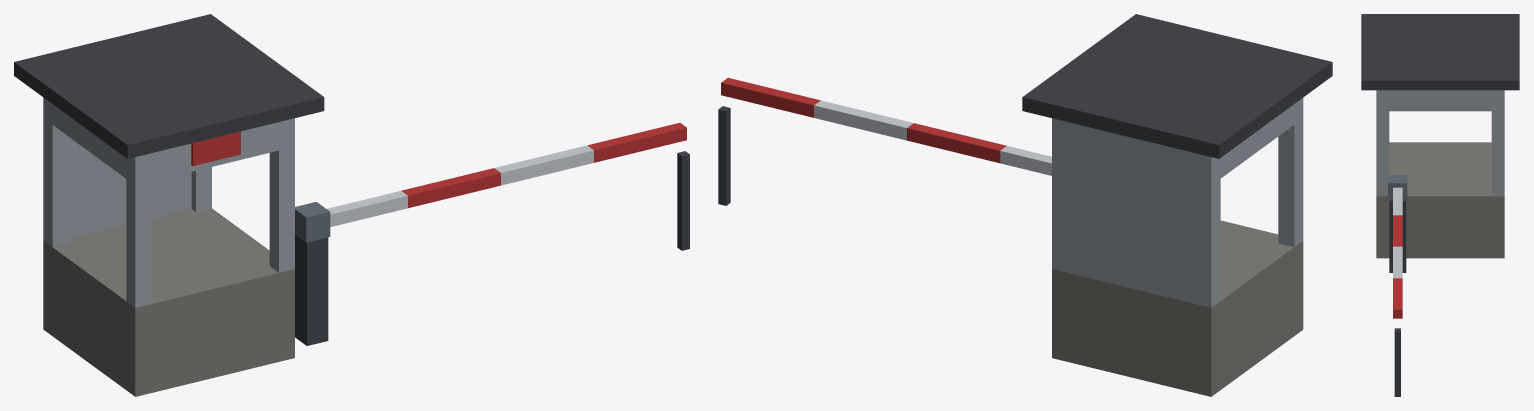
Rendered from env_checkpoint.fbx.
3 renders of one model, left to right at view 1: azimuth 30°, elevation 25°; view 2: azimuth 150°, elevation 25°; view 3: azimuth 270°, elevation 25°, orthographic. The views are drawn at different scales.
Parts seen in each view (by area): view 1: env_checkpoint; view 2: env_checkpoint; view 3: env_checkpoint.
Boxes of the visible parts, <box> form: env_checkpoint: <box>14,14,689,396</box>; env_checkpoint: <box>718,14,1332,396</box>; env_checkpoint: <box>1361,14,1519,396</box>.
Bounding box in the file's own units: 2205 × 950 × 740.
